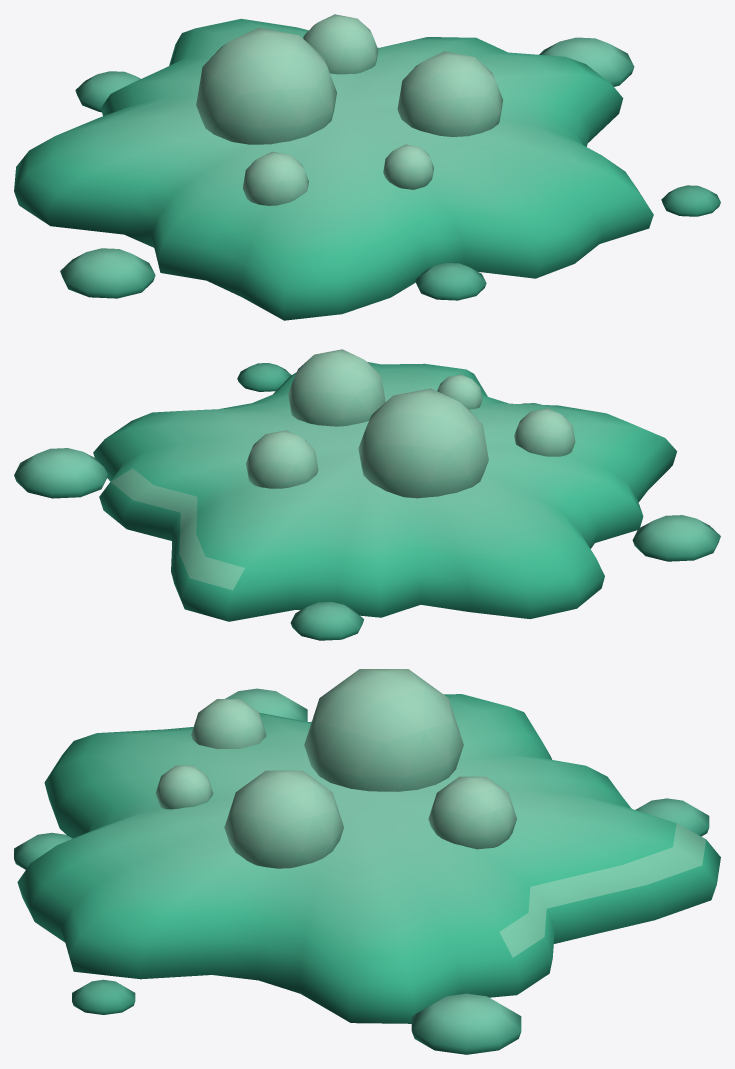
The model's file is pvp_goo_trap_1.fbx.
3 renders of one model, top to bottom at view 1: azimuth 30°, elevation 25°; view 2: azimuth 150°, elevation 25°; view 3: azimuth 270°, elevation 25°, orthographic. The views are drawn at different scales.
Parts seen in each view (by area): view 1: pvp_goo_trap_1; view 2: pvp_goo_trap_1; view 3: pvp_goo_trap_1.
Part boxes in pixels (box(x1,y1,x2,y2)): pvp_goo_trap_1: box(14, 14, 720, 320); pvp_goo_trap_1: box(14, 349, 720, 640); pvp_goo_trap_1: box(14, 669, 720, 1054).
Size of the model in its own units: 3.79 by 0.8355 by 3.19.
